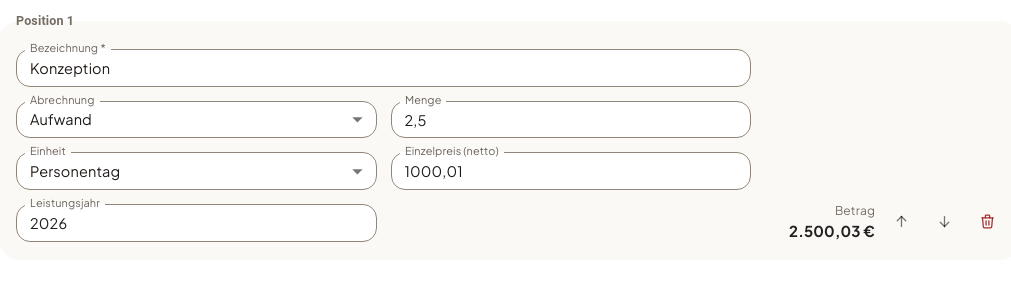
Test: Positionsmaske — das Leistungsjahr (Plan #303, Kriterium 4, E16) › meldet am Feld, was kein Jahr ist
Replace the text in the field labelled "Leistungsjahr" with "2k26". click: (196, 223)
box: [16,204,376,242]
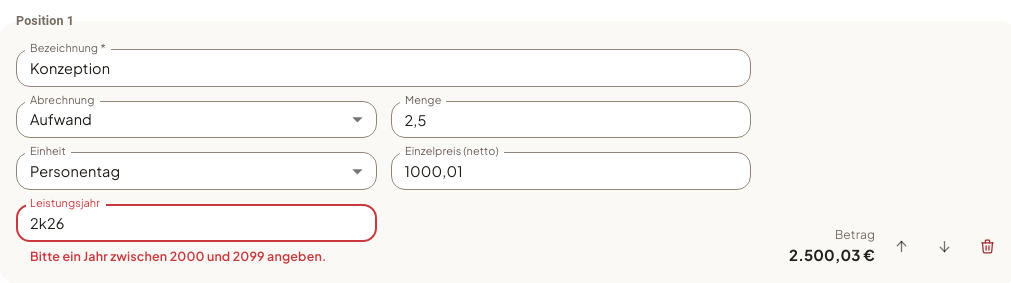
Now the text "Bitte ein Jahr zwischen 2000 und 2099 angeben." is shown, box [30,246,362,267]
